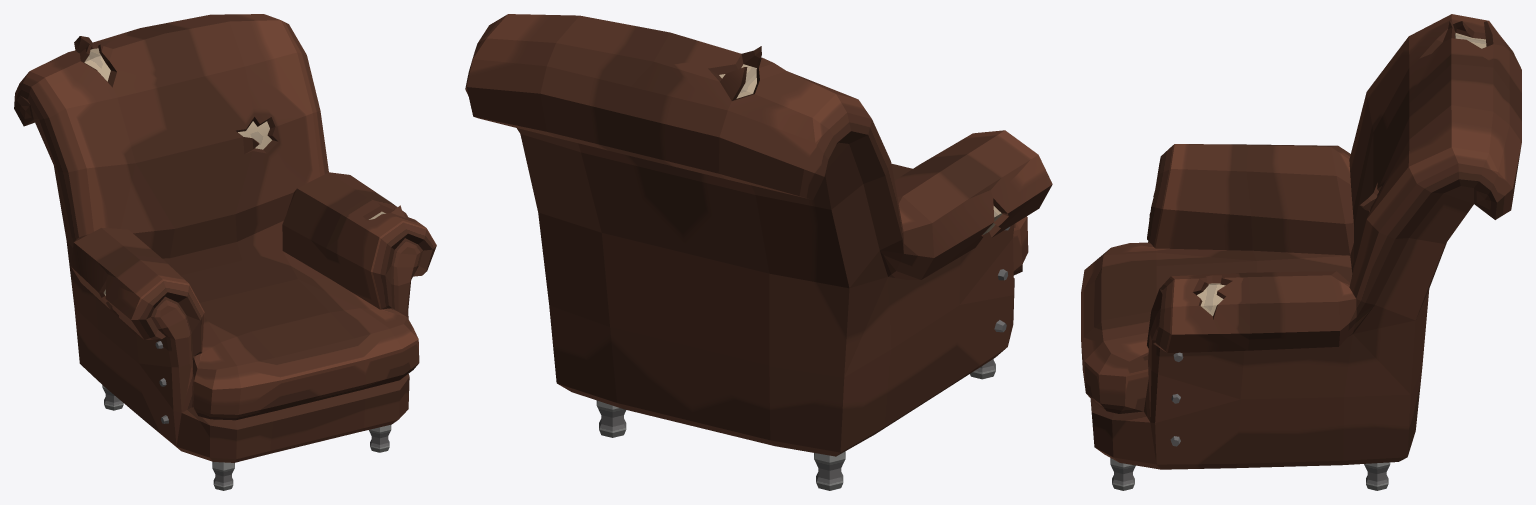
Rendered from SM_Prop_Chair_07.fbx.
3 views of the same model, side by side, from view 1: azimuth 30°, elevation 25°; view 2: azimuth 150°, elevation 25°; view 3: azimuth 270°, elevation 25° (orthographic). The views are drawn at different scales.
Visible parts, largest first — view 1: SM_Prop_Chair_07; view 2: SM_Prop_Chair_07; view 3: SM_Prop_Chair_07.
Boxes of the visible parts, x1,y1,x2,y2 form: SM_Prop_Chair_07: (14, 14, 436, 490); SM_Prop_Chair_07: (465, 14, 1052, 490); SM_Prop_Chair_07: (1081, 14, 1521, 490).
Size of the model in its own units: 134 by 140 by 144.
